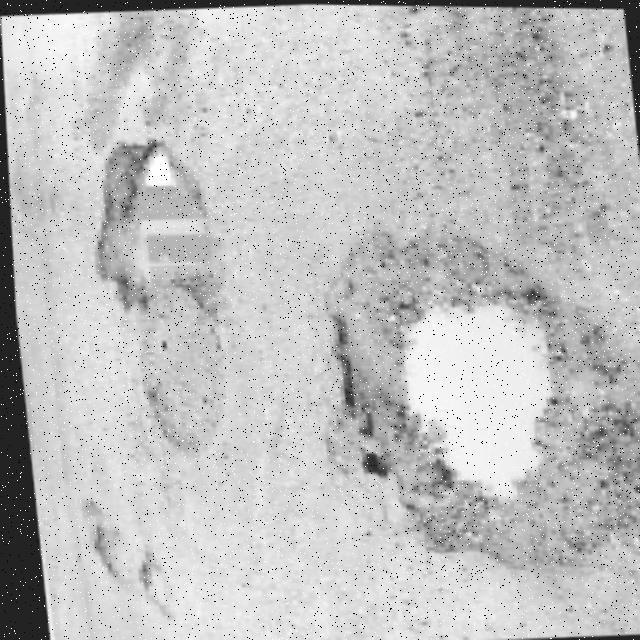pothole: (306, 220, 636, 578), (74, 132, 226, 324), (78, 508, 168, 622)
